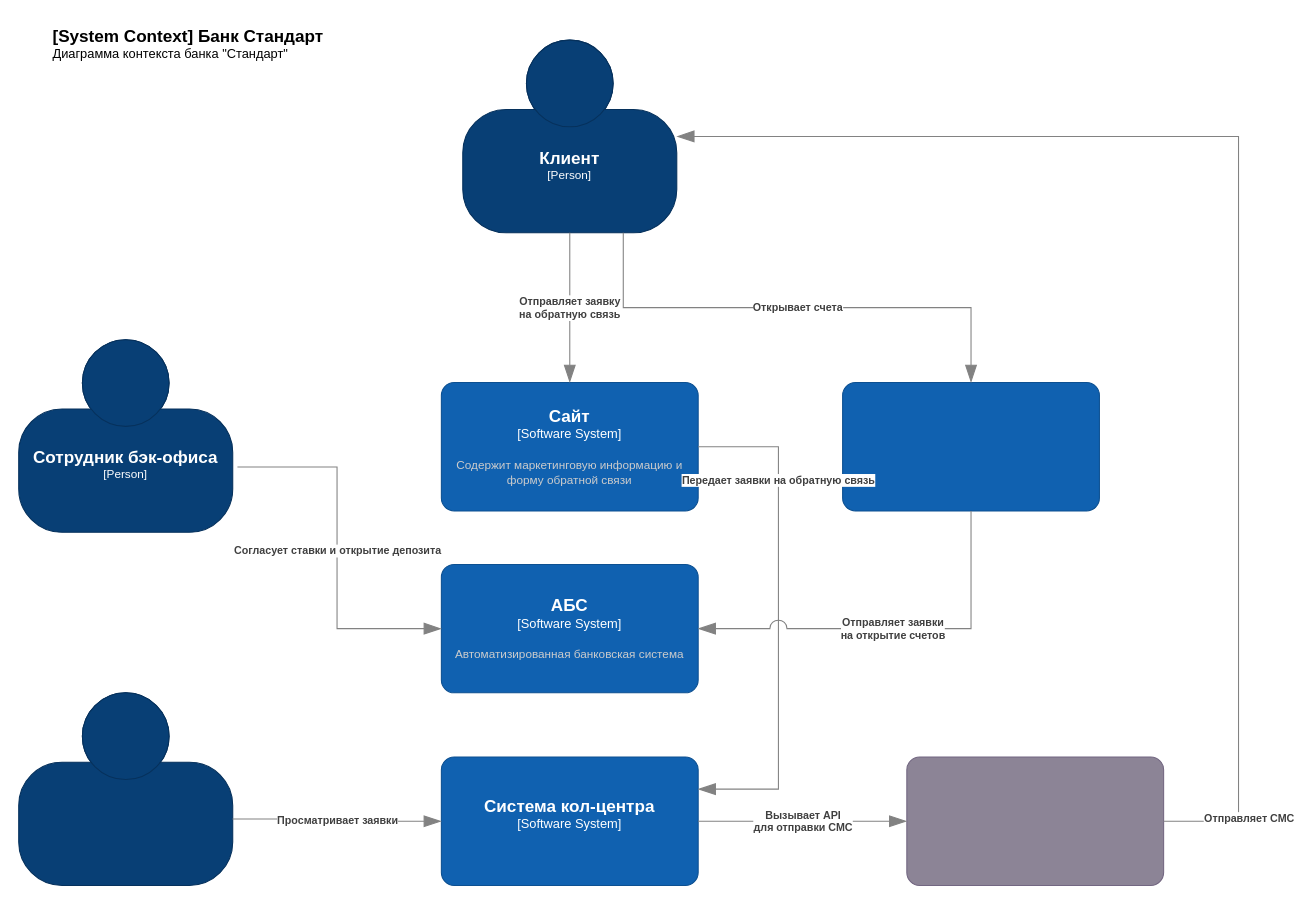
The diagram is 1313 pixels wide and 904 high, and some of its shapes have lost their labels. The box of each missing label's shape, as (x1, y1, x2, y2) in pixels:
Интернет-банк [Software System] Кабинет для просмотра и управления счетами: (842, 381, 1099, 511)
Сотрудник кол-центра [Person]: (18, 692, 233, 885)
Телеком-оператор [External Software System]: (906, 756, 1164, 885)
